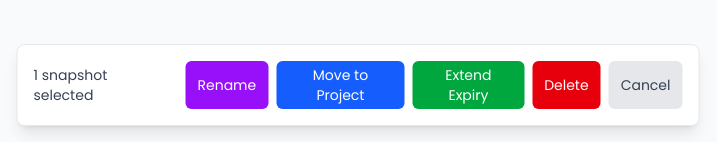
BulkOperations Component › Loading States › disables buttons when operations are in progress
The image size is (717, 142).
Note: Start an operation
Click the button "Extend Expiry": (468, 85) x1=413 y1=61 x2=524 y2=109
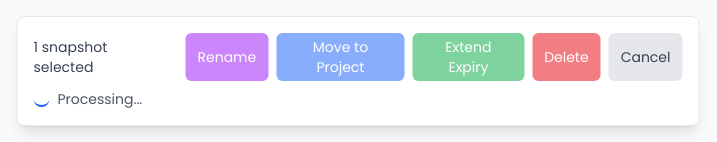
expect the button "Extend Expiry" is disabled: met, box x1=413 y1=33 x2=524 y2=81
expect the button "Move to Project" is disabled: met, box x1=276 y1=33 x2=405 y2=81
expect the button "Delete" is disabled: met, box x1=532 y1=33 x2=601 y2=81
